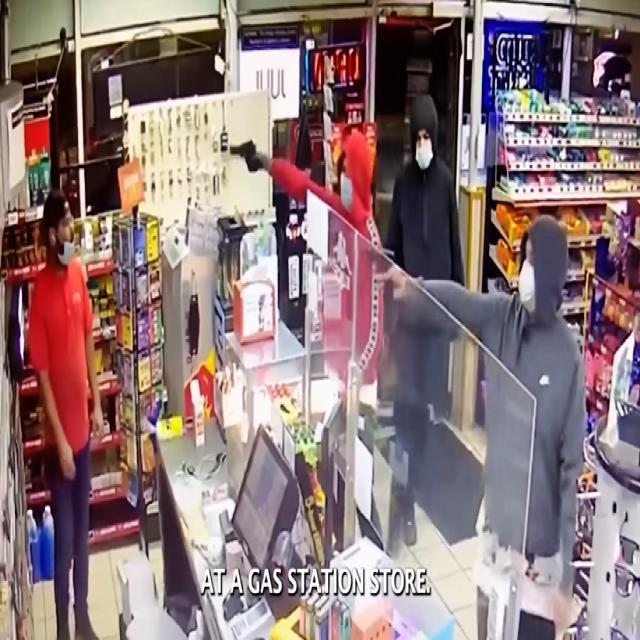Gun: (227, 132, 271, 182)
